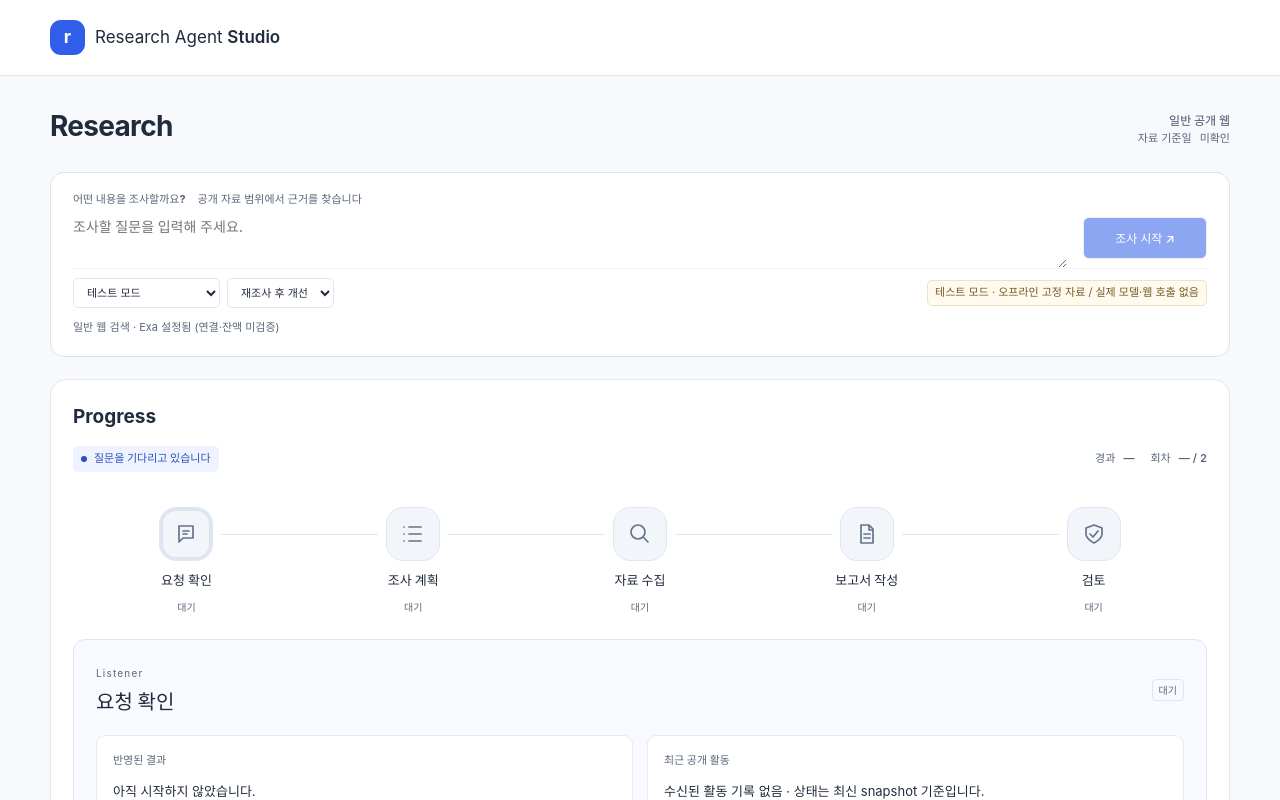
it: service dashboard › shows Exa configuration separately from offline test execution and unknown dataset date
Expected: the text "일반 웹 검색 · Exa 설정됨 (연결·잔액 미검증)" is shown, [73,320,280,334]
Expected: the text "테스트 모드 · 오프라인 고정 자료 / 실제 모델·웹 호출 없음" is shown, [927,280,1207,306]
Select "실제 모델" in the 1st dropdown named "실행 모드": (146, 293) [73,278,220,308]
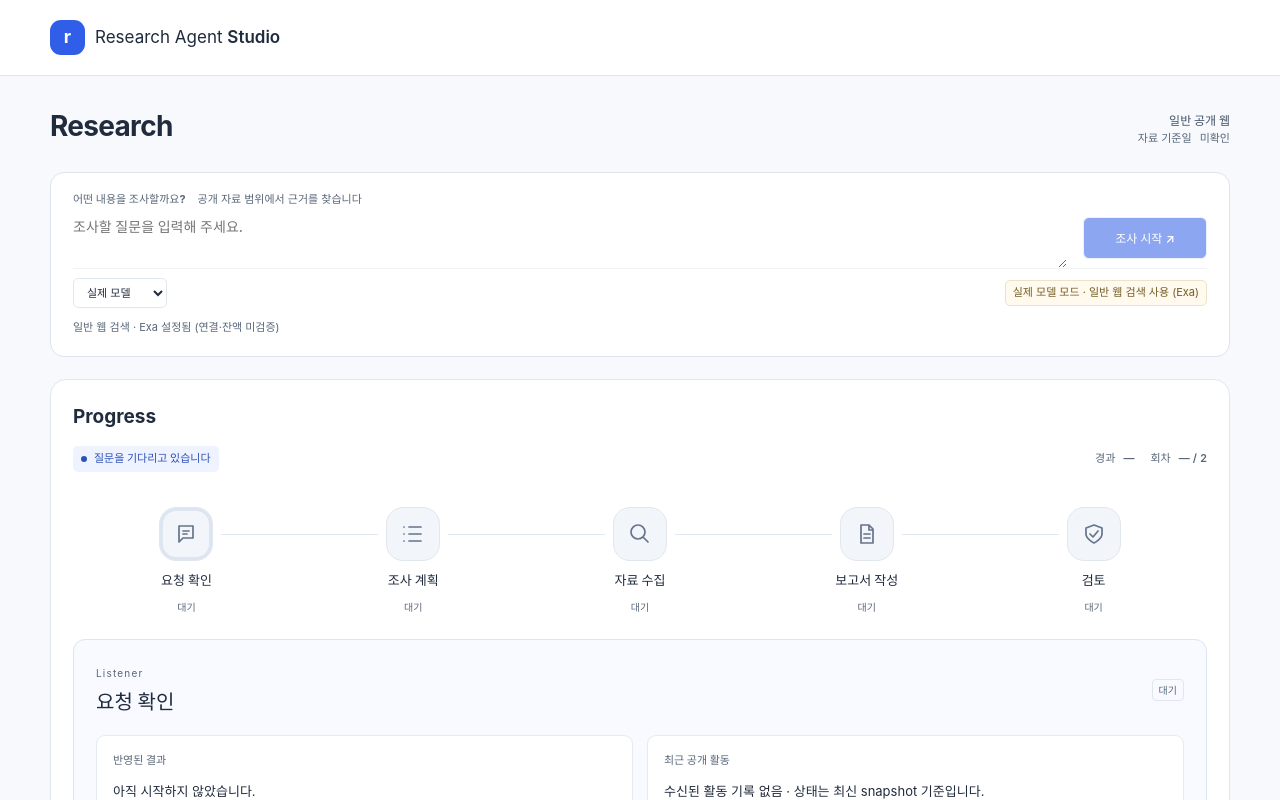
Expected: the text "실제 모델 모드 · 일반 웹 검색 사용 (Exa)" is shown, [1005,280,1207,306]
